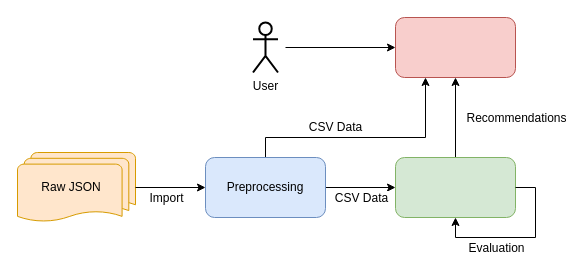
Image size: 583x272. Some labels were removed from this diagram. Each missing label, with the centre of its shape:
"Business Recommender" belongs at [455,187].
"Business Search Engine" belongs at [455,47].
